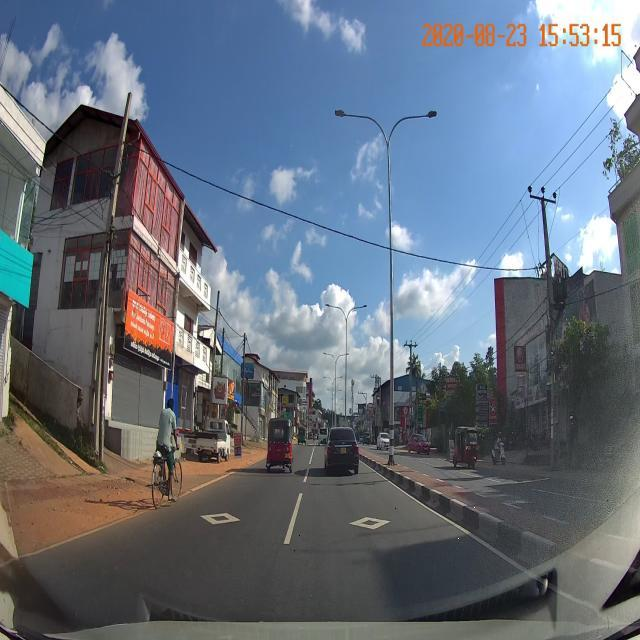diamond: (273, 496, 485, 552)
